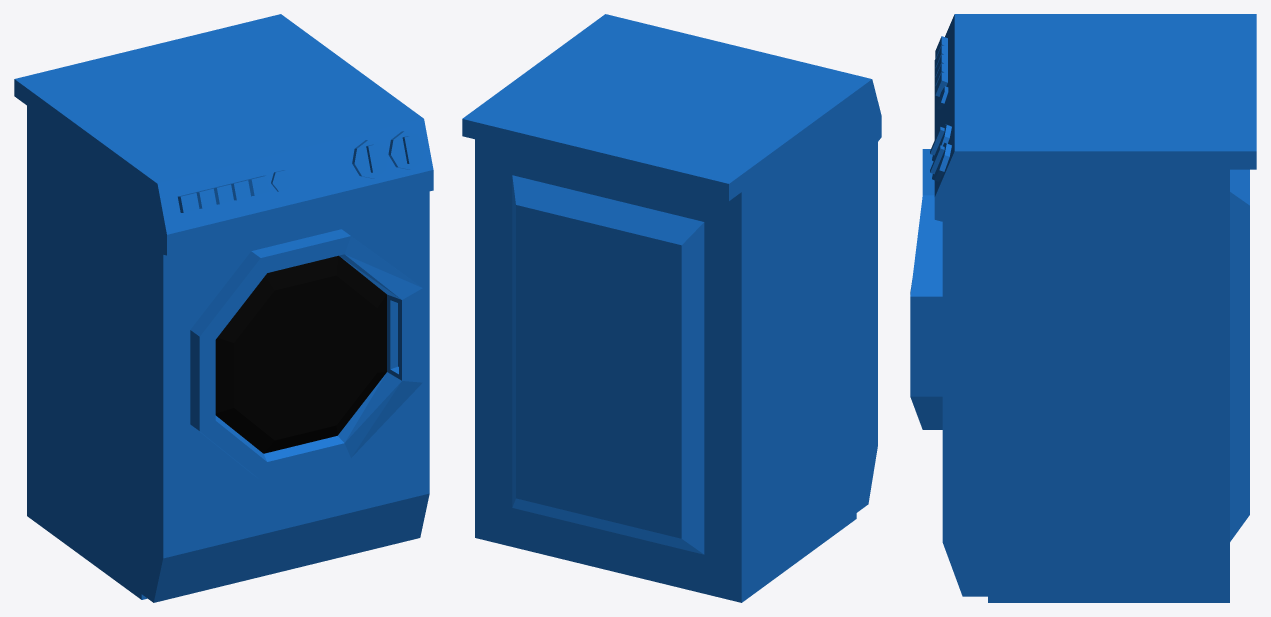
Rendered from SM_washing_machine.fbx.
3 views of the same model, side by side, from view 1: azimuth 30°, elevation 25°; view 2: azimuth 150°, elevation 25°; view 3: azimuth 270°, elevation 25° (orthographic). The views are drawn at different scales.
Parts seen in each view (by area): view 1: Cylinder_26, Cylinder_27; view 2: Cylinder_26; view 3: Cylinder_26, Cylinder_27.
Boxes of the visible parts, left/top/right/bottom form: Cylinder_26: left=14, top=14, right=433, bottom=602; Cylinder_27: left=190, top=229, right=422, bottom=479; Cylinder_26: left=462, top=14, right=881, bottom=602; Cylinder_26: left=930, top=14, right=1256, bottom=602; Cylinder_27: left=910, top=149, right=942, bottom=429.
Size of the model in its own units: 72.2 by 111 by 76.99.
